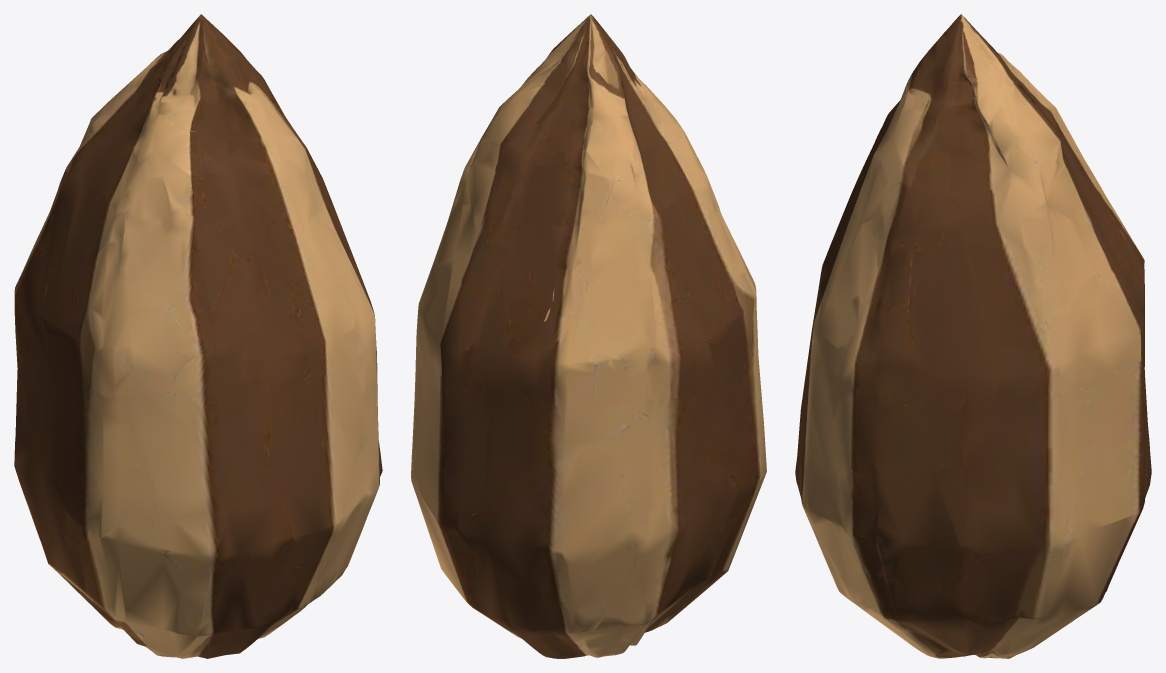
File: seed.glb
3 renders of one model, left to right at view 1: azimuth 30°, elevation 25°; view 2: azimuth 150°, elevation 25°; view 3: azimuth 270°, elevation 25°, orthographic.
Size of the model in its own units: 0.9224 by 1.9 by 0.9661.
Materials: 1 (1 with a texture image).
